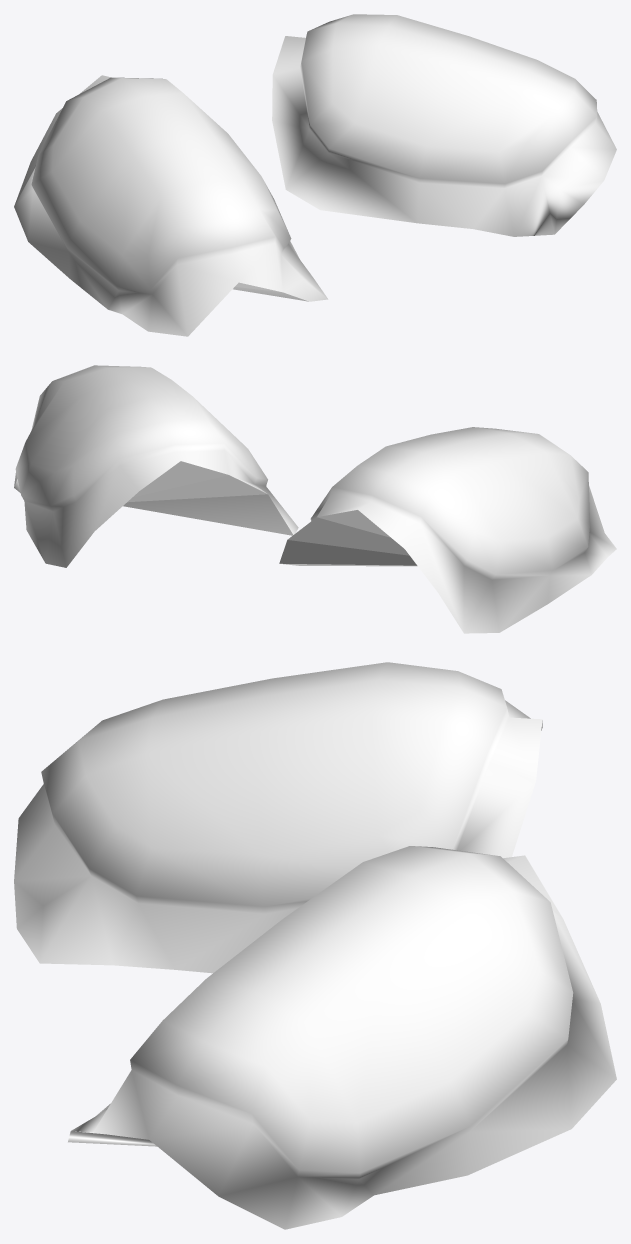
File: ElbowPads_Ground.fbx
3 renders of one model, top to bottom at view 1: azimuth 30°, elevation 25°; view 2: azimuth 150°, elevation 25°; view 3: azimuth 270°, elevation 25°, orthographic. The views are drawn at different scales.
Visible parts, largest first — view 1: Legs_KneePads.001; view 2: Legs_KneePads.001; view 3: Legs_KneePads.001.
Boxes of the visible parts, x1,y1,x2,y2 form: Legs_KneePads.001: [14, 14, 616, 336]; Legs_KneePads.001: [14, 365, 616, 633]; Legs_KneePads.001: [14, 662, 616, 1229].
Size of the model in its own units: 0.2067 by 0.0535 by 0.1304.
